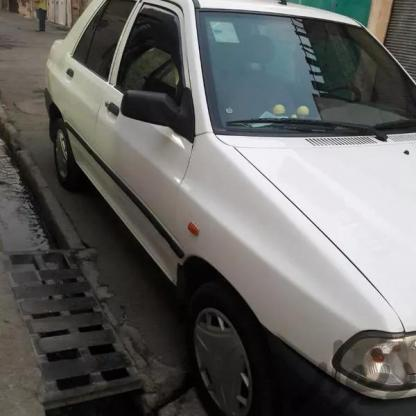Car: (36, 0, 416, 416)
